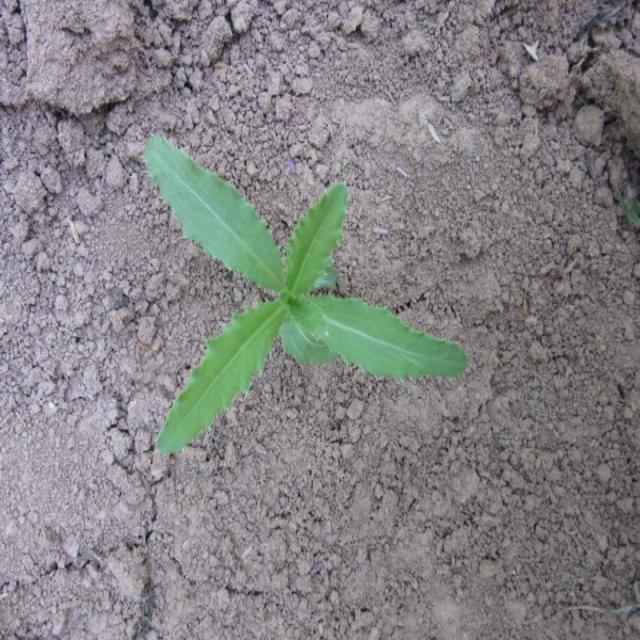field_thistle: (89, 124, 448, 442)
